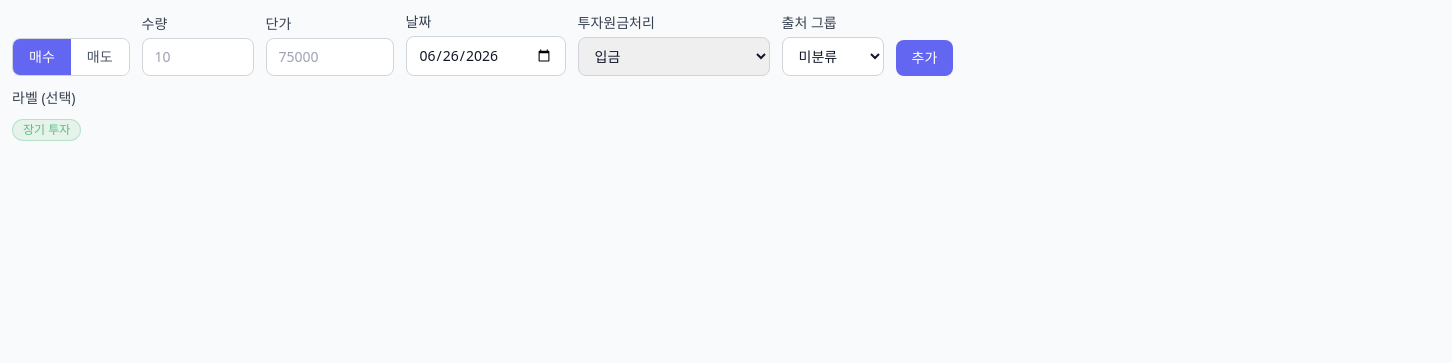
Scenario: AddTransactionForm › keeps lots for the latest selected source when an earlier request finishes last
This screenshot has width=1452, height=363.
Click the button "매도": (100, 57) left=71, top=39, right=129, bottom=75
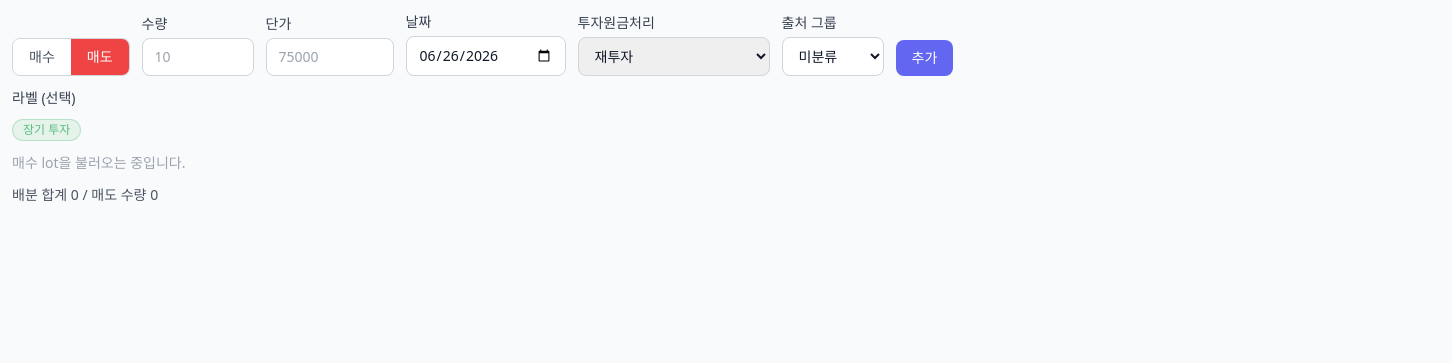
Select "연금 계좌" in the dropdown labelled "출처 그룹": (832, 56) left=782, top=37, right=884, bottom=76
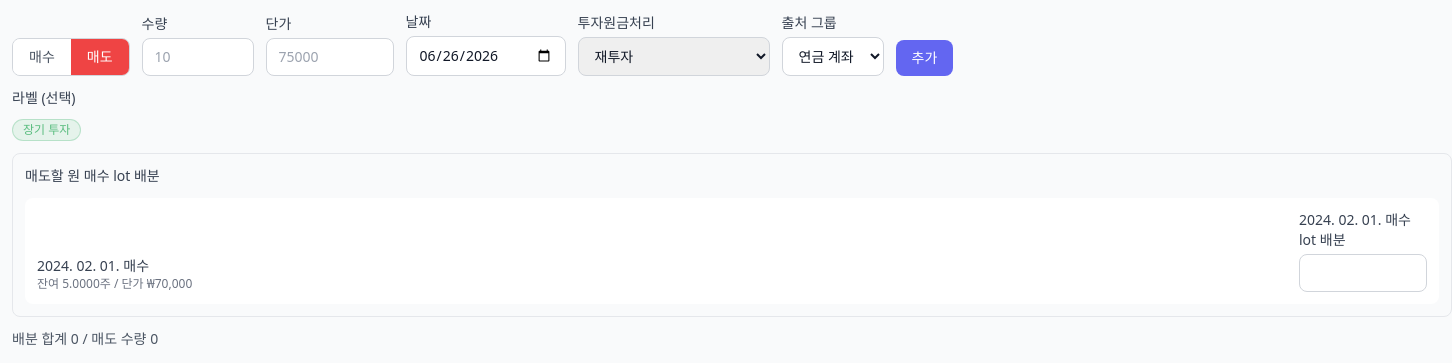
Expected: the text "2024. 02. 01. 매수" is shown, left=37, top=256, right=149, bottom=275
